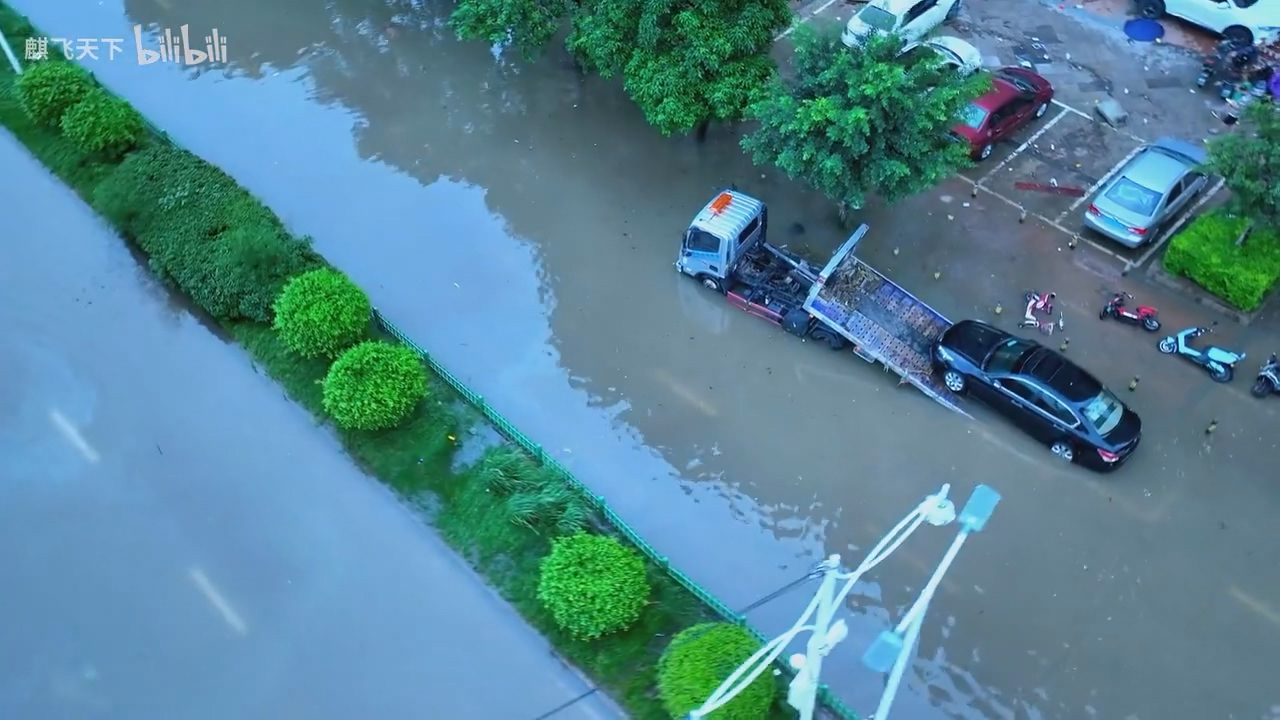puddle: (28, 137, 1108, 718)
